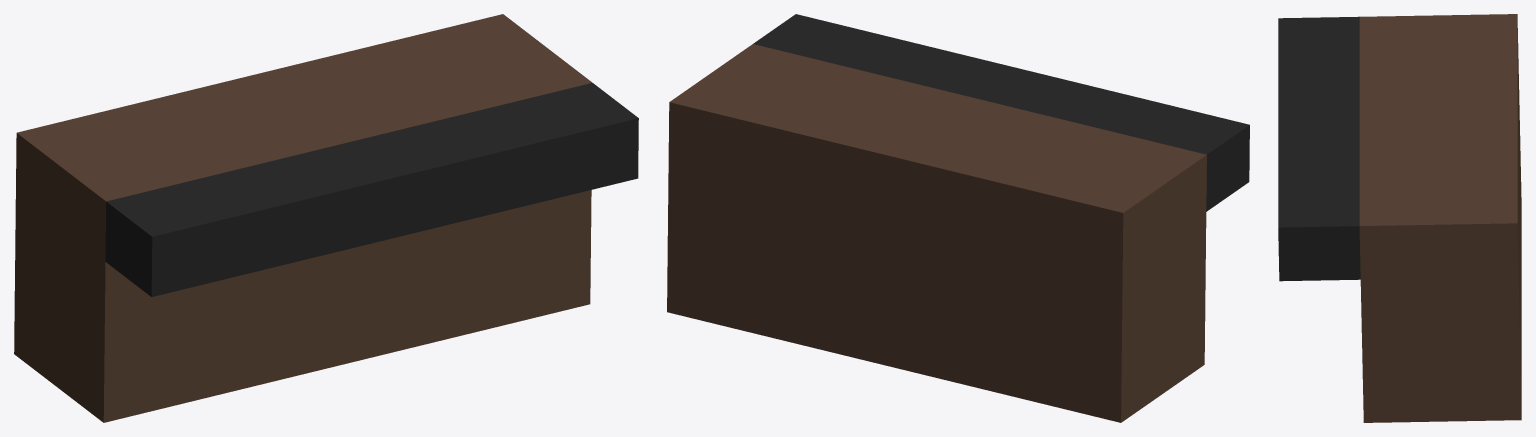
File: Table.fbx
3 renders of one model, left to right at view 1: azimuth 30°, elevation 25°; view 2: azimuth 150°, elevation 25°; view 3: azimuth 270°, elevation 25°, orthographic. The views are drawn at different scales.
Parts seen in each view (by area): view 1: table:pCube5; view 2: table:pCube5; view 3: table:pCube5.
Part boxes in pixels (x1,y1,x2,y2): table:pCube5: [14, 14, 638, 422]; table:pCube5: [667, 14, 1249, 422]; table:pCube5: [1278, 14, 1521, 422].
Bounding box in the file's own units: 3.13 × 1.39 × 1.54.
